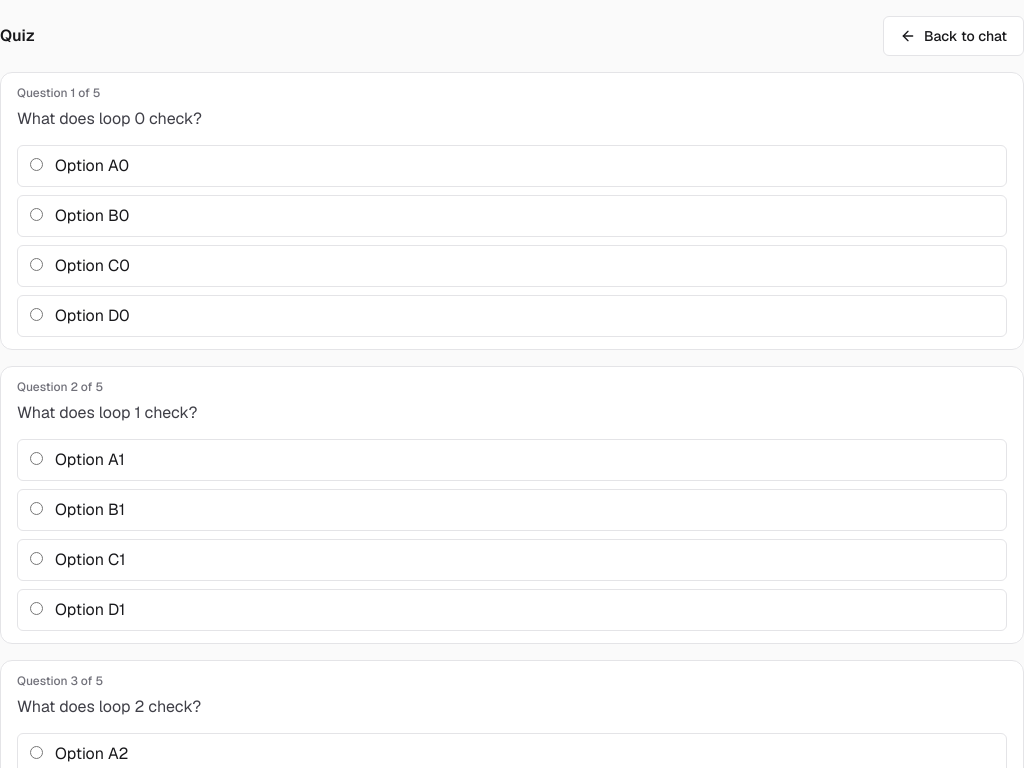
Scenario: QuizView before checking › keeps Check answers disabled until all 5 questions are answered
The image size is (1024, 768).
Click the radio button labelled "Option A0": (36, 164) [30,158,43,171]
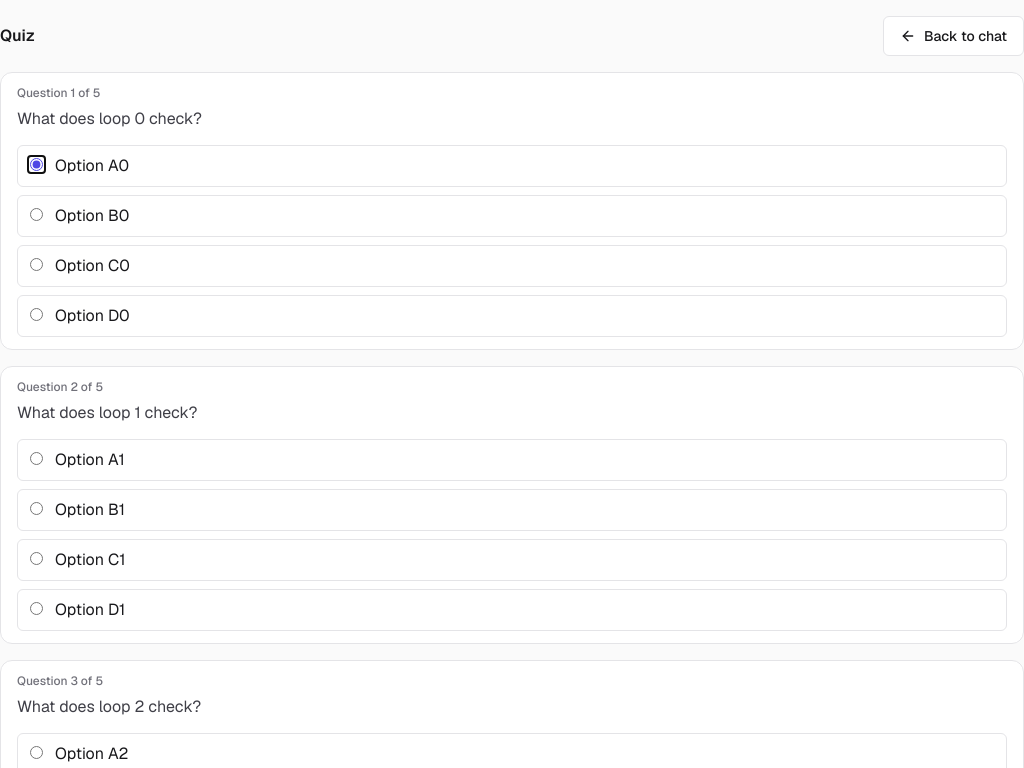
Click the radio button labelled "Option A1": (36, 458) [30,452,43,465]
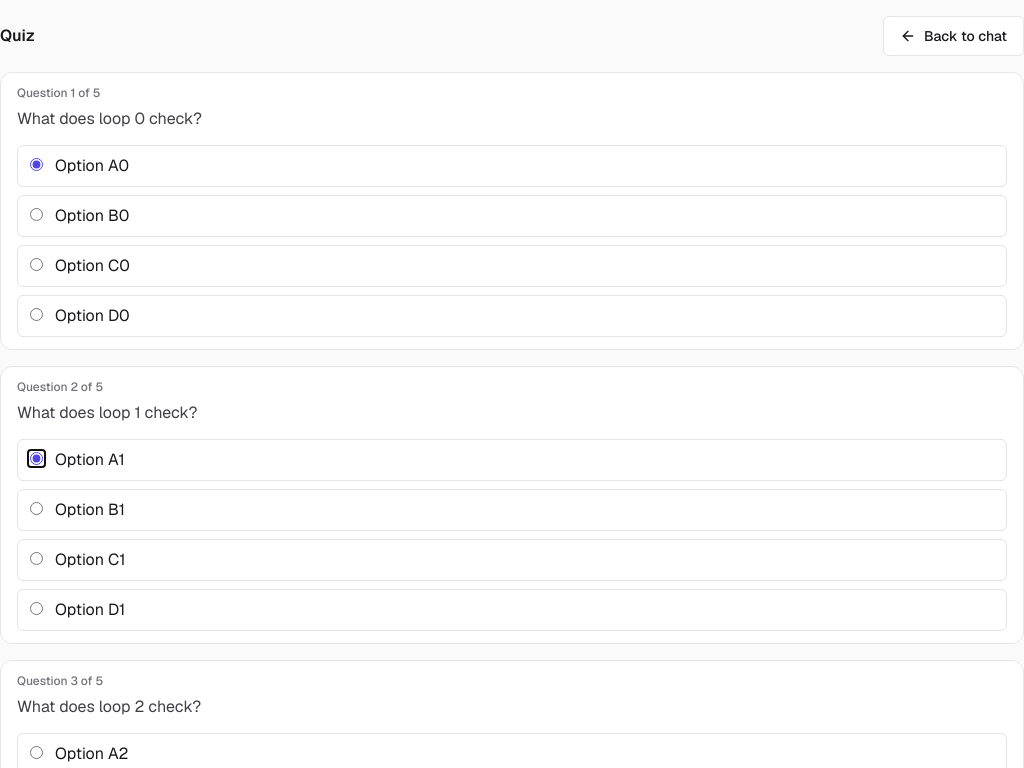
Click the radio button labelled "Option A2": (36, 752) [30,746,43,759]
(page scrolled)
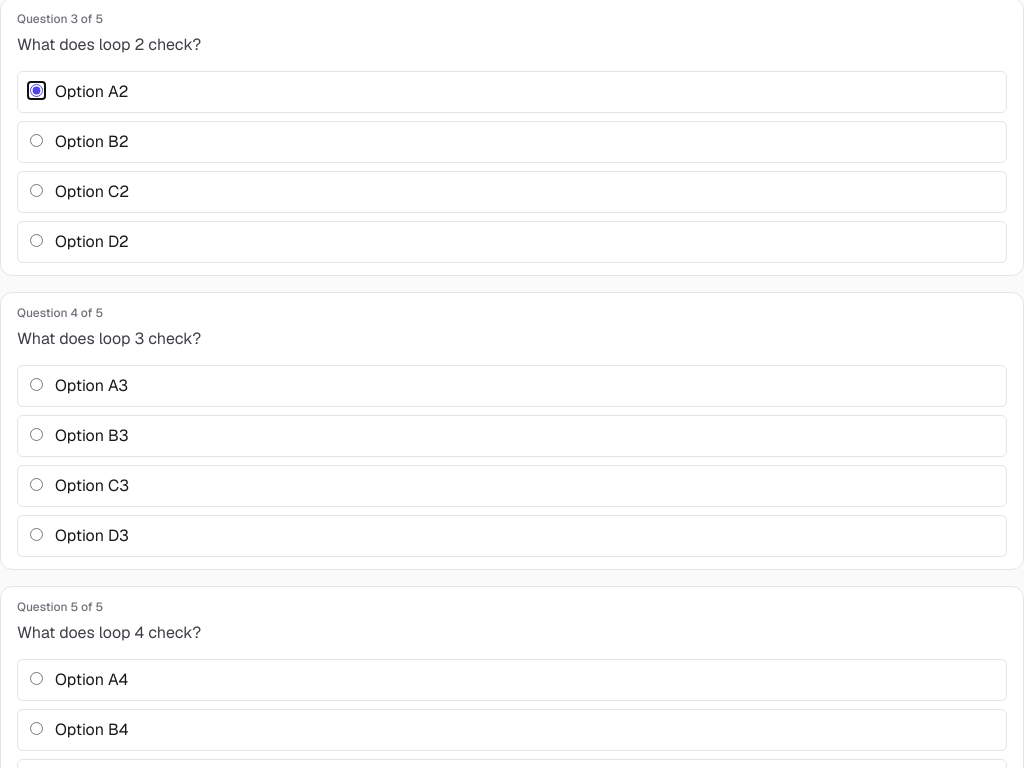
Click the radio button labelled "Option A3": (36, 384) [30,378,43,391]
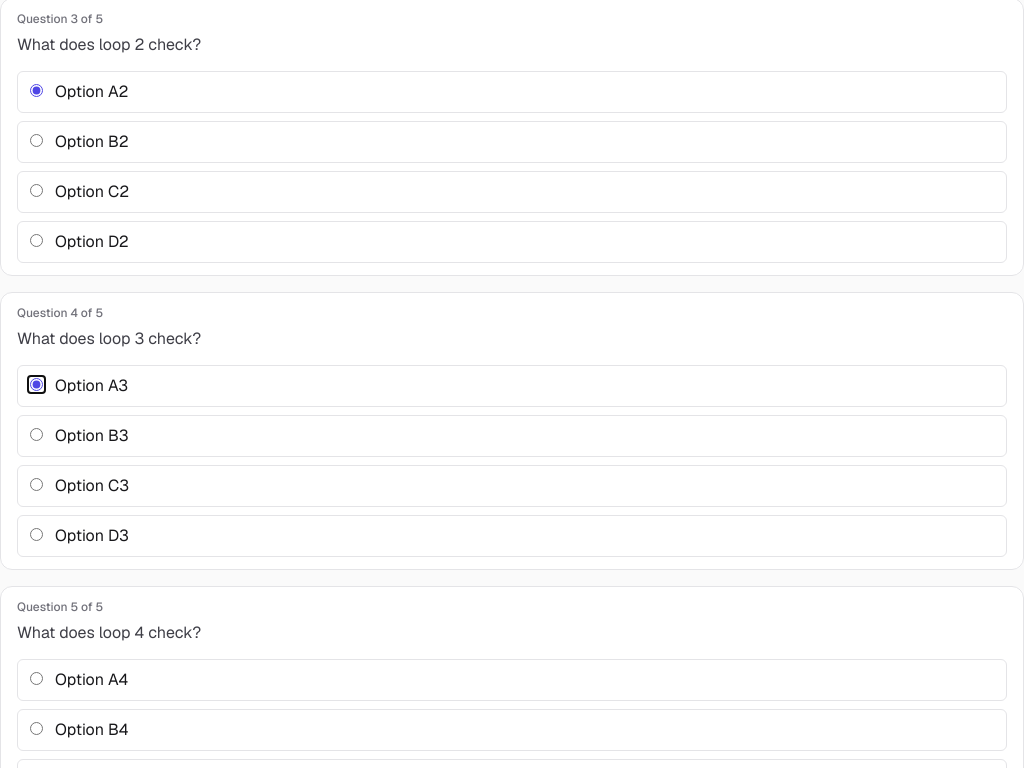
Click the radio button labelled "Option A4": (36, 678) [30,672,43,685]
(page scrolled)
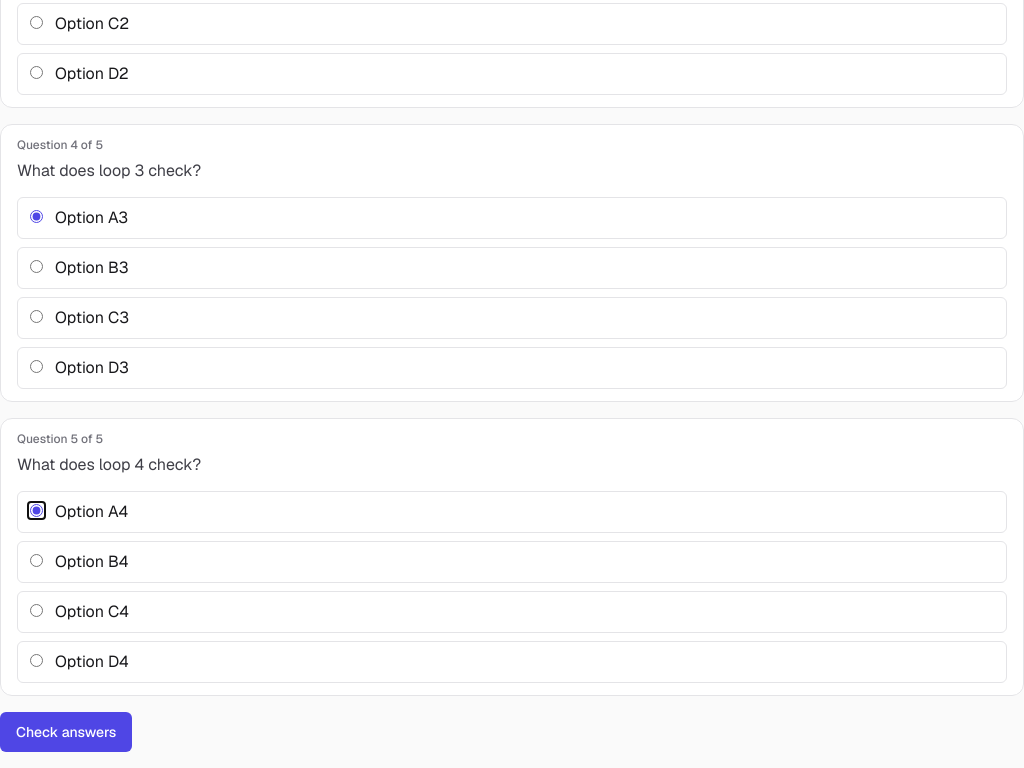
Result: the button "Check answers" is enabled at [0,712,132,752]
